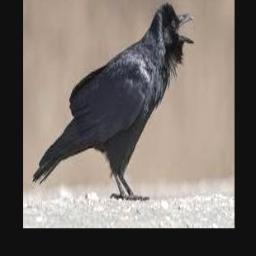Crow: (33, 2, 195, 200)
